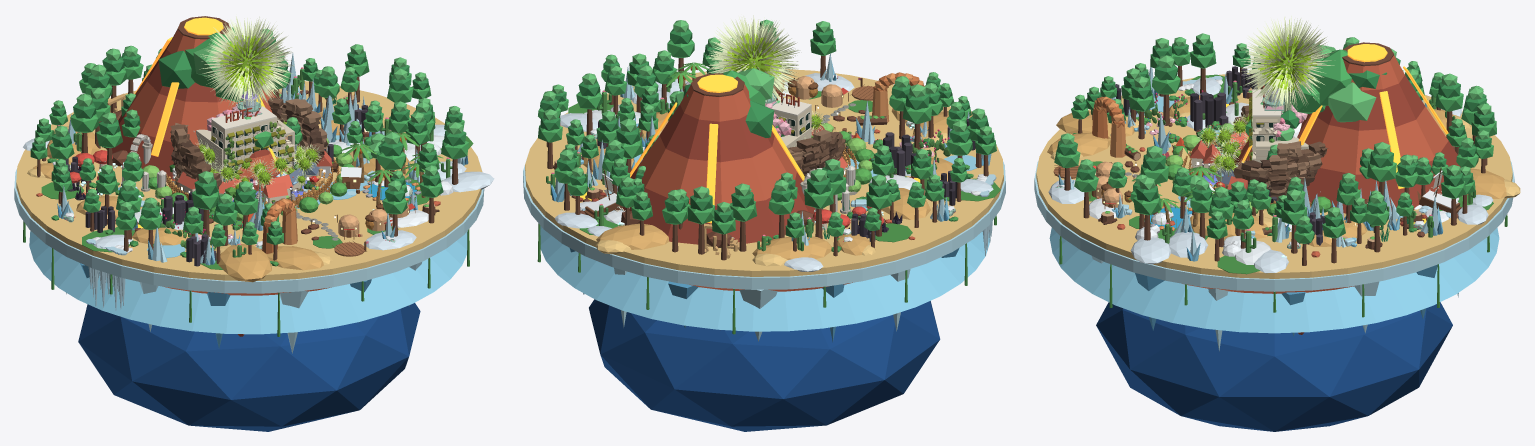
Rendered from island.glb.
The picture shows the model from 3 angles, left to right: view 1: azimuth 30°, elevation 25°; view 2: azimuth 150°, elevation 25°; view 3: azimuth 270°, elevation 25°; orthographic projection. The views are drawn at different scales.
Visible parts, largest first — view 1: IG2_Water, IG2_Bulb, IE_Top, IG2_Ice, IPm_tip, Ember_Volcano_at15_EV_L1, IPm_head, IPv_rock, IPm_core, Ember_Dune_at76_ED_Dune, IR_wall, IPv_rock_light (+19 smaller); view 2: IG2_Water, IG2_Bulb, IE_Top, IG2_Ice, Ember_Volcano_at15_EV_L1, Ember_Volcano_at15_EV_L2, IPm_tip, Ember_Volcano_at15_EV_L0, Ember_Volcano_at15_EV_L3, Ember_Dune_at68_ED_Dune, IPm_head, Ember_Dune_at74_ED_Dune (+11 smaller); view 3: IG2_Water, IG2_Bulb, IE_Top, IG2_Ice, IPm_tip, Ember_Volcano_at15_EV_L1, Ember_Volcano_at15_EV_L0, Ember_Volcano_at15_EV_L2, IPm_head, IPv_rock, Wood_GiantTree_at31_WG_Crown1, Wood_GiantTree_at31_WG_Crown0 (+21 smaller).
Boxes of the visible parts, x1=… form: IG2_Water: x1=78, y1=303, x2=420, y2=431; IG2_Bulb: x1=29, y1=231, x2=467, y2=334; IE_Top: x1=16, y1=81, x2=482, y2=280; IG2_Ice: x1=14, y1=163, x2=484, y2=293; IPm_tip: x1=195, y1=16, x2=323, y2=188; Ember_Volcano_at15_EV_L1: x1=124, y1=69, x2=276, y2=144; IPm_head: x1=198, y1=34, x2=318, y2=188; IPv_rock: x1=170, y1=97, x2=324, y2=189; IPm_core: x1=200, y1=43, x2=316, y2=189; Ember_Dune_at76_ED_Dune: x1=218, y1=243, x2=271, y2=282; IR_wall: x1=211, y1=118, x2=294, y2=181; IPv_rock_light: x1=171, y1=98, x2=327, y2=197; IG2_Water: x1=589, y1=299, x2=940, y2=431; IG2_Bulb: x1=540, y1=226, x2=989, y2=331; IE_Top: x1=525, y1=69, x2=1003, y2=276; IG2_Ice: x1=523, y1=155, x2=1005, y2=289; Ember_Volcano_at15_EV_L1: x1=636, y1=135, x2=796, y2=205; Ember_Volcano_at15_EV_L2: x1=659, y1=104, x2=774, y2=162; IPm_tip: x1=705, y1=15, x2=826, y2=146; Ember_Volcano_at15_EV_L0: x1=622, y1=169, x2=815, y2=244; Ember_Volcano_at15_EV_L3: x1=680, y1=84, x2=750, y2=121; Ember_Dune_at68_ED_Dune: x1=596, y1=223, x2=669, y2=249; IPm_head: x1=723, y1=33, x2=822, y2=129; Ember_Dune_at74_ED_Dune: x1=752, y1=236, x2=831, y2=259; IG2_Water: x1=1096, y1=302, x2=1452, y2=431; IG2_Bulb: x1=1049, y1=227, x2=1499, y2=333; IE_Top: x1=1036, y1=73, x2=1512, y2=278; IG2_Ice: x1=1034, y1=161, x2=1514, y2=291; IPm_tip: x1=1197, y1=16, x2=1334, y2=176; Ember_Volcano_at15_EV_L1: x1=1297, y1=106, x2=1448, y2=174; Ember_Volcano_at15_EV_L0: x1=1306, y1=141, x2=1460, y2=213; Ember_Volcano_at15_EV_L2: x1=1317, y1=75, x2=1425, y2=130; IPm_head: x1=1201, y1=34, x2=1317, y2=172; IPv_rock: x1=1233, y1=105, x2=1327, y2=200; Wood_GiantTree_at31_WG_Crown1: x1=1328, y1=82, x2=1376, y2=122; Wood_GiantTree_at31_WG_Crown0: x1=1306, y1=49, x2=1351, y2=105.
Size of the model in its own units: 72.75 by 65.04 by 73.48.
